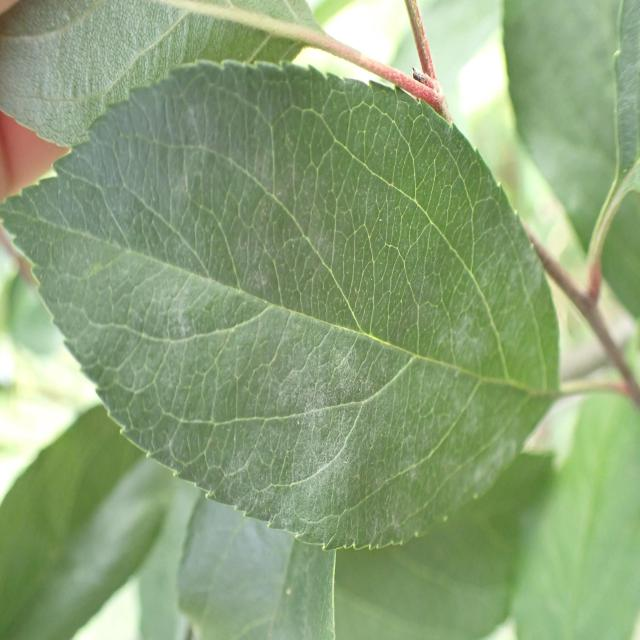Powdery_mildew: (42, 68, 557, 544)
